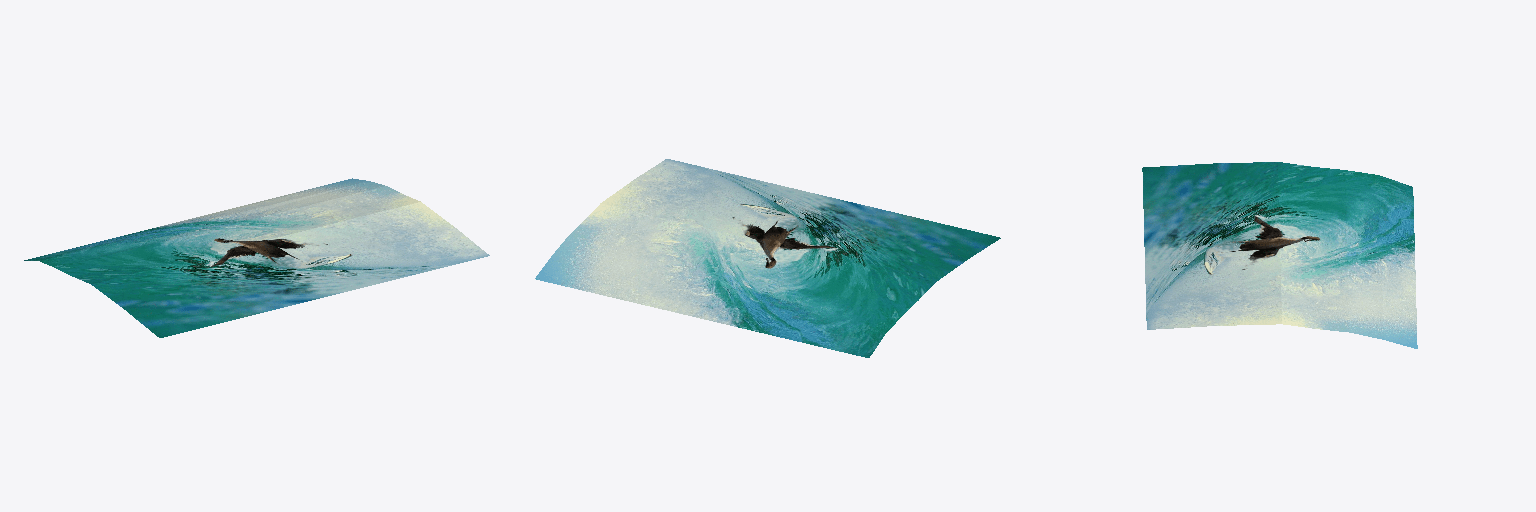
3 views of the same model, side by side, from view 1: azimuth 30°, elevation 25°; view 2: azimuth 150°, elevation 25°; view 3: azimuth 270°, elevation 25° (orthographic).
Bounding box in the file's own units: 1.42 × 0.1053 × 1.01.
1 materials, 1 textured.